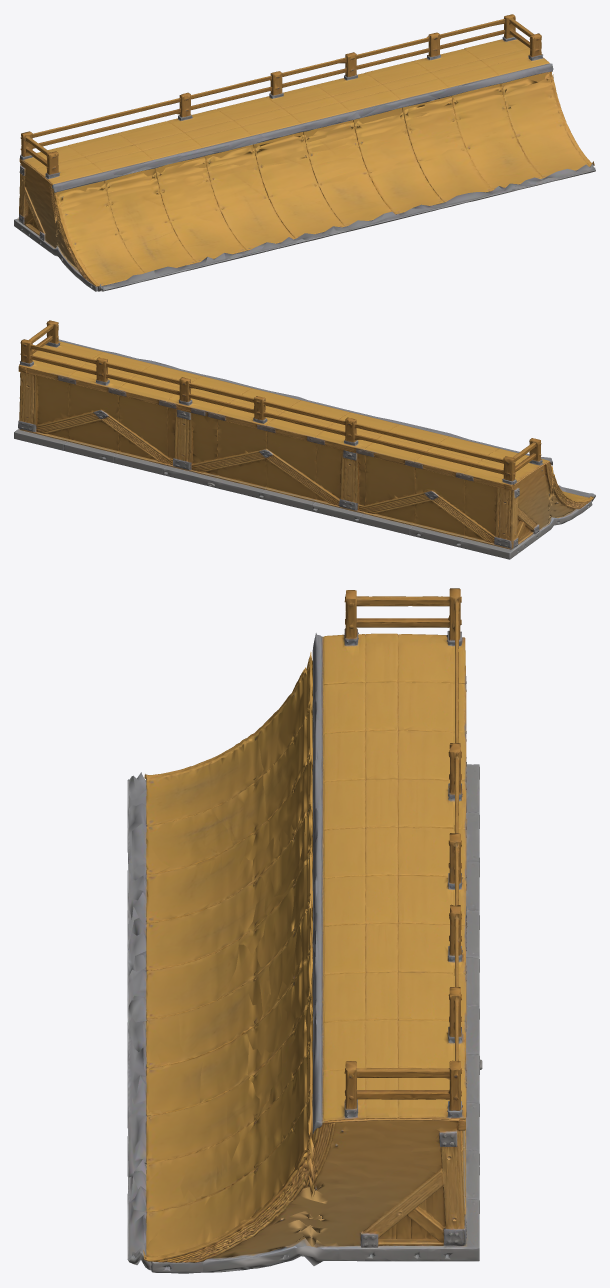
File: wooden-quarter.glb
3 renders of one model, top to bottom at view 1: azimuth 30°, elevation 25°; view 2: azimuth 150°, elevation 25°; view 3: azimuth 270°, elevation 25°, orthographic. The views are drawn at different scales.
Parts seen in each view (by area): view 1: tripo_node_d0630f82-4f9d-4248-83df-8f8b9f32e60c; view 2: tripo_node_d0630f82-4f9d-4248-83df-8f8b9f32e60c; view 3: tripo_node_d0630f82-4f9d-4248-83df-8f8b9f32e60c.
Boxes of the visible parts, x1=… form: tripo_node_d0630f82-4f9d-4248-83df-8f8b9f32e60c: x1=14, y1=14, x2=595, y2=291; tripo_node_d0630f82-4f9d-4248-83df-8f8b9f32e60c: x1=14, y1=320, x2=595, y2=559; tripo_node_d0630f82-4f9d-4248-83df-8f8b9f32e60c: x1=127, y1=588, x2=482, y2=1273.
Size of the model in its own units: 26 by 5.07 by 8.
Materials: 1 (1 with a texture image).
